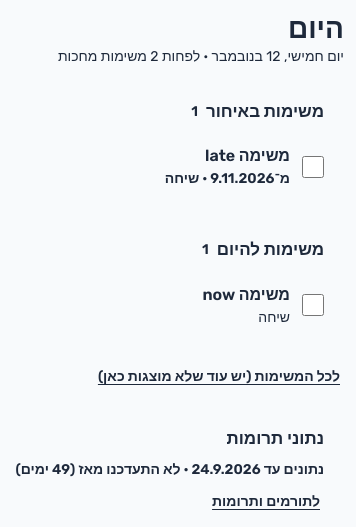
Test: MgmtTodayPage › does not claim an exact count when more urgent tasks may exist than were loaded
Expected: the text "משימה late" is shown, [205,146,290,165]
Expected: the text "לפחות 2 משימות מחכות" is shown, [58,48,212,65]
Step 1. Click the checkbox named "סימון כבוצע: משימה late" → (313, 167), box [302,156,324,178]
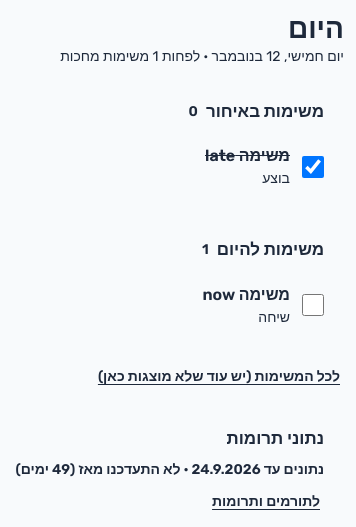
Expected: the link "לכל המשימות (יש עוד שלא מוצגות כאן)" is shown, [98,368,340,385]
Result: the text "לפחות 1 משימות מחכות" is shown at [60,48,212,65]
